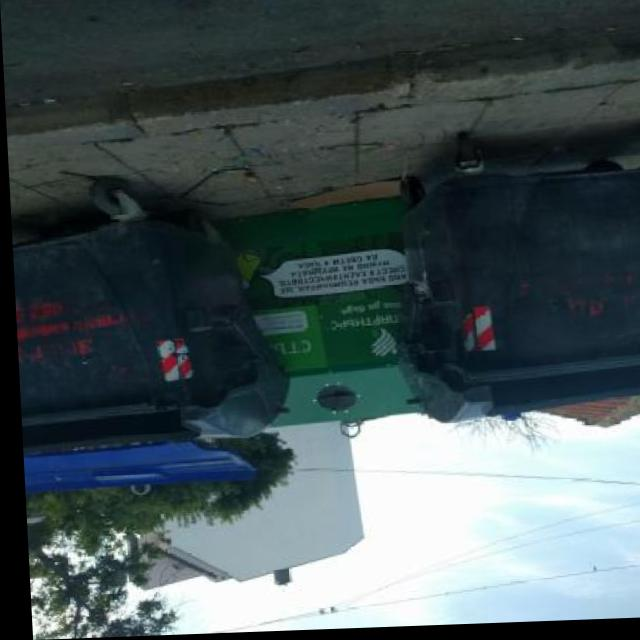cardboard: (287, 179, 402, 211)
